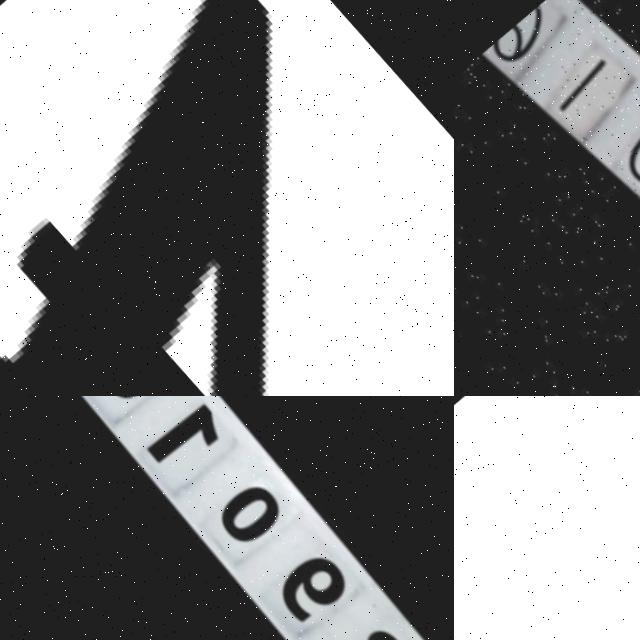0: (190, 458, 300, 561), (594, 86, 640, 210), (77, 396, 180, 417)
1: (525, 29, 640, 148), (129, 396, 243, 493)
6: (476, 0, 584, 89)
8: (305, 597, 423, 640)
9: (245, 527, 364, 637)
T: (454, 396, 640, 640)
